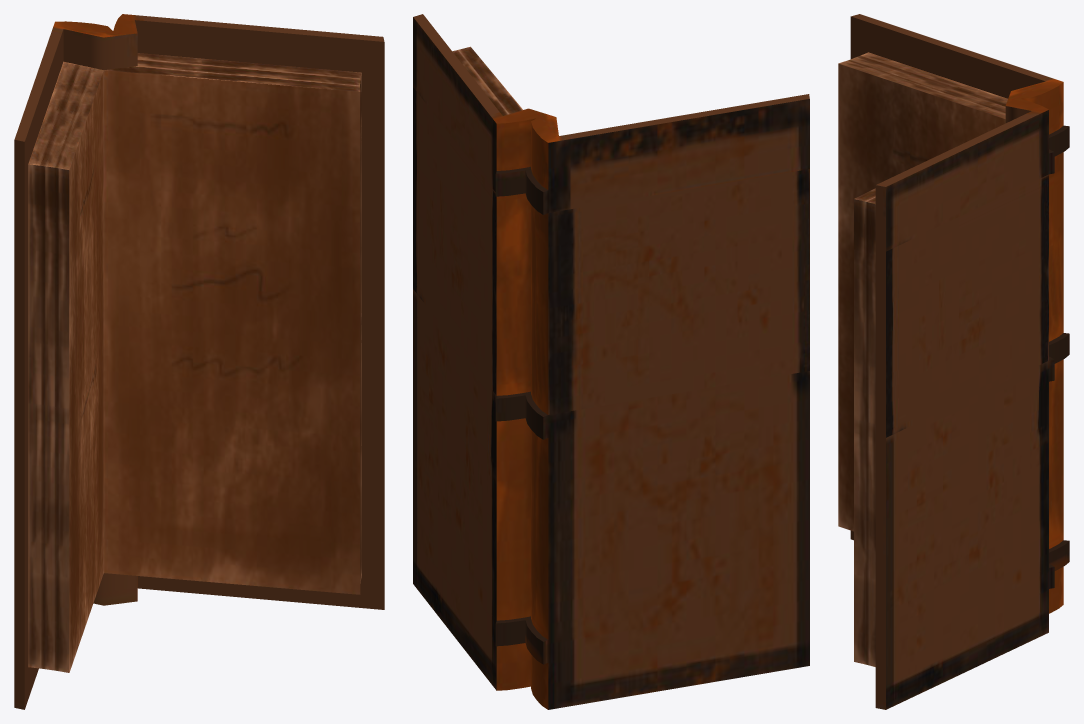
Rendered from Livingroom_openbook.fbx.
3 views of the same model, side by side, from view 1: azimuth 30°, elevation 25°; view 2: azimuth 150°, elevation 25°; view 3: azimuth 270°, elevation 25° (orthographic). The views are drawn at different scales.
Visible parts, largest first — view 1: polySurface84; view 2: polySurface84; view 3: polySurface84.
Part boxes in pixels (x1,y1,x2,y2): polySurface84: (14, 14, 384, 709); polySurface84: (413, 14, 809, 709); polySurface84: (838, 14, 1069, 709).
Size of the model in its own units: 0.0114 by 0.0162 by 0.0065.
